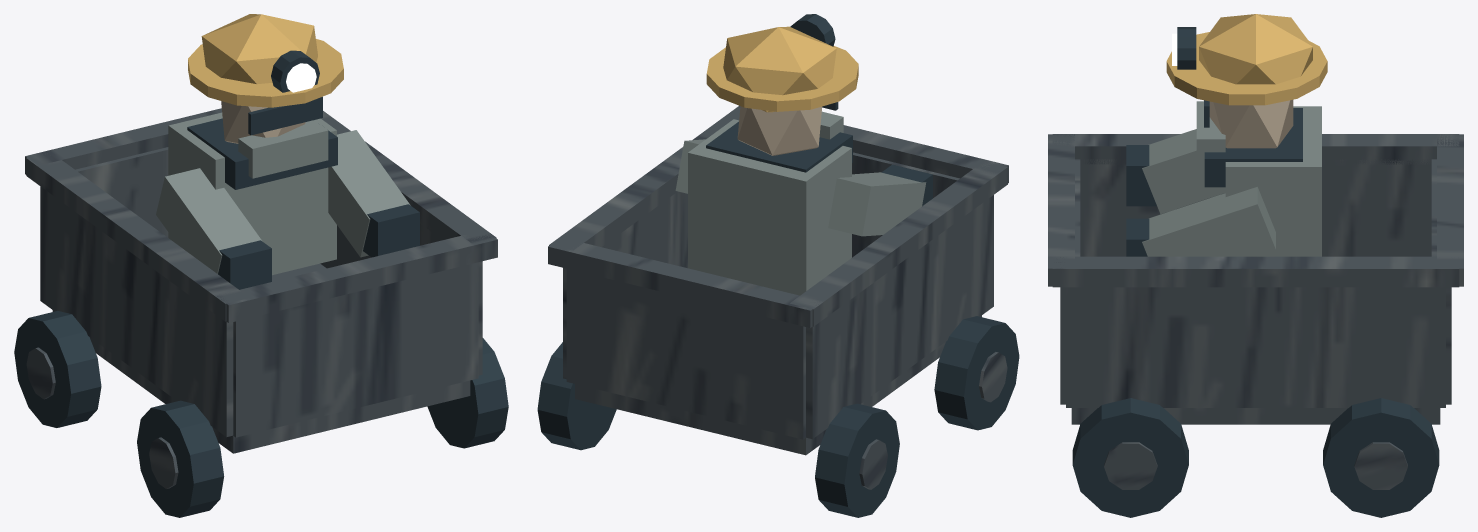
File: miner-cart.glb
The picture shows the model from 3 angles, left to right: view 1: azimuth 30°, elevation 25°; view 2: azimuth 150°, elevation 25°; view 3: azimuth 270°, elevation 25°; orthographic projection. The views are drawn at different scales.
Visible parts, largest first — view 1: Cart end, Cart side, Miner torso, Cart rim, Cart rim.002, Wheel, Wheel.001, Sleeve, Helmet crown, Cart floor, Sleeve.001, Wheel.002 (+15 smaller); view 2: Cart end.001, Cart side, Miner torso, Cart rim, Cart rim.003, Wheel, Wheel.001, Helmet crown, Cart rim.001, Cart floor, Sleeve, Wheel.003 (+11 smaller); view 3: Cart side.001, Cart side, Cart rim.001, Wheel.002, Wheel.003, Miner torso, Sleeve.001, Helmet crown, Cart rim, Helmet brim, Sleeve, Cart rim.003 (+12 smaller).
Boxes of the visible parts, x1,y1,x2,y2 form: Cart end: (233, 262, 478, 437); Cart side: (40, 186, 233, 437); Miner torso: (168, 112, 336, 275); Cart rim: (26, 153, 249, 321); Cart rim.002: (217, 230, 497, 322); Wheel: (137, 400, 224, 517); Wheel.001: (14, 311, 101, 427); Sleeve: (156, 168, 262, 273); Helmet crown: (201, 14, 317, 84); Cart floor: (52, 263, 470, 453); Sleeve.001: (328, 130, 410, 257); Wheel.002: (427, 338, 508, 448); Cart end.001: (566, 269, 805, 439); Cart side: (806, 195, 993, 439); Miner torso: (688, 119, 851, 295); Cart rim: (790, 161, 1007, 326); Cart rim.003: (548, 243, 822, 327); Wheel: (934, 316, 1019, 430); Wheel.001: (815, 403, 899, 517); Helmet crown: (723, 26, 836, 112); Cart rim.001: (549, 105, 740, 250); Cart floor: (575, 315, 981, 455); Sleeve: (828, 172, 926, 236); Wheel.003: (537, 342, 616, 450); Cart side.001: (1066, 287, 1445, 407); Cart side: (1080, 159, 1431, 256); Cart rim.001: (1052, 256, 1459, 287); Wheel.002: (1072, 398, 1188, 517); Wheel.003: (1323, 398, 1439, 517); Miner torso: (1225, 106, 1321, 256); Sleeve.001: (1142, 187, 1275, 256); Helmet crown: (1199, 14, 1312, 84); Cart rim: (1052, 134, 1459, 164); Helmet brim: (1166, 32, 1327, 105); Sleeve: (1142, 129, 1225, 214); Cart rim.003: (1437, 134, 1463, 286).
Bounding box in the file's own units: 1.69 × 2.1 × 1.86.
7 materials, 2 textured.
